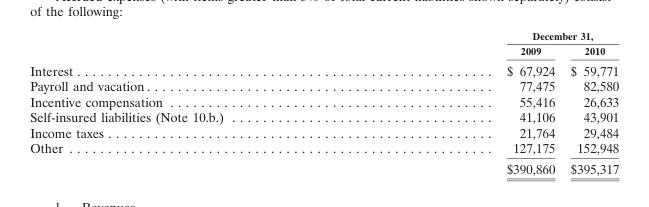table: (29, 28, 618, 176)
table column: (29, 28, 364, 176), (364, 28, 562, 176), (562, 28, 618, 176)
table column header: (29, 28, 618, 59)
table row: (29, 59, 618, 78), (29, 140, 618, 158), (29, 158, 618, 176), (29, 42, 618, 59), (29, 93, 618, 109), (29, 124, 618, 140), (29, 78, 618, 93), (29, 109, 618, 124), (29, 28, 618, 42)
table spanning cell: (364, 28, 618, 42)
